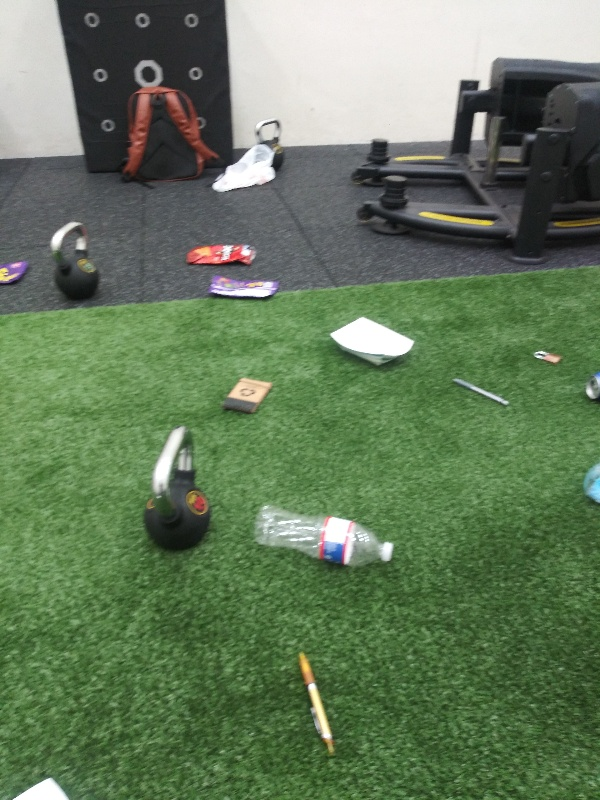bag: (203, 271, 280, 302), (176, 241, 257, 268), (1, 252, 33, 288)
bottle: (248, 499, 400, 568), (580, 463, 600, 505)
can: (581, 371, 600, 404)
plate: (323, 315, 422, 370)
